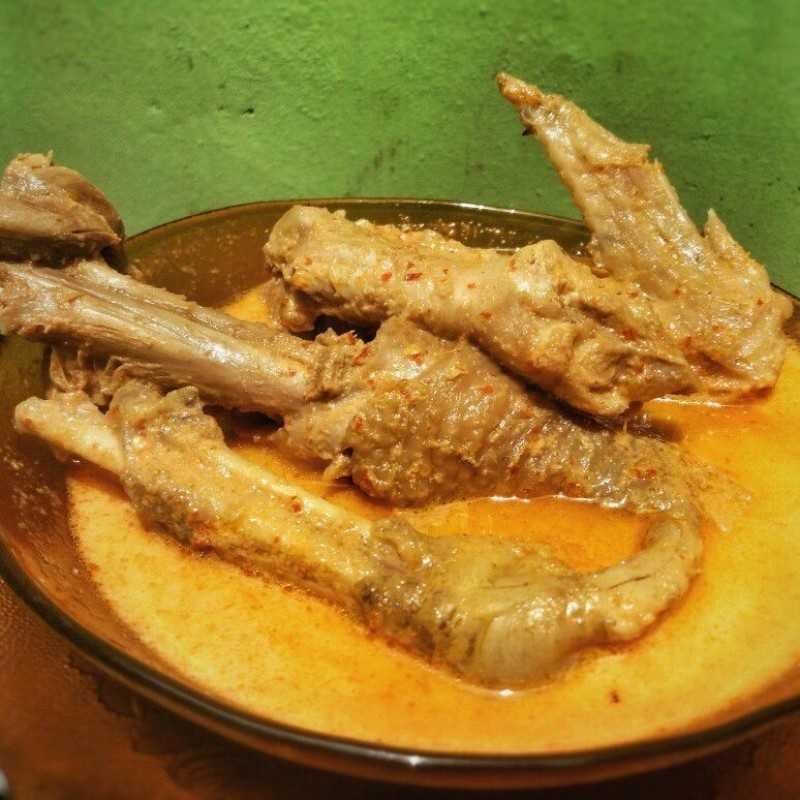gulai_ayam: (53, 221, 794, 744)
